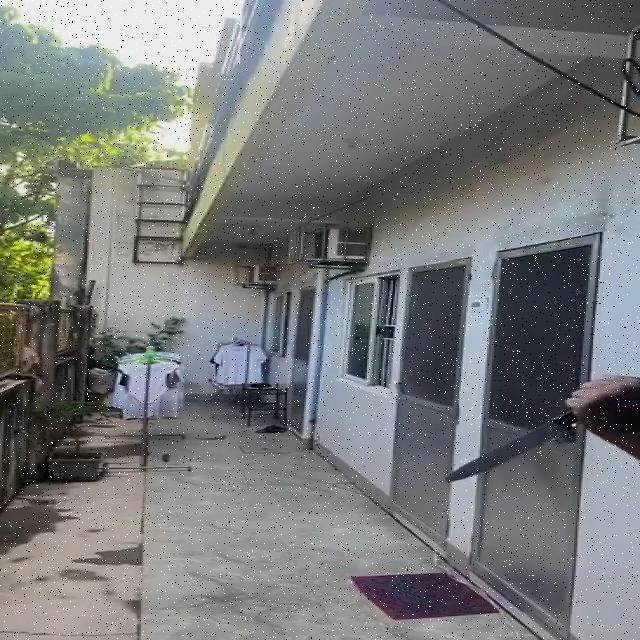knife: (444, 412, 580, 486)
